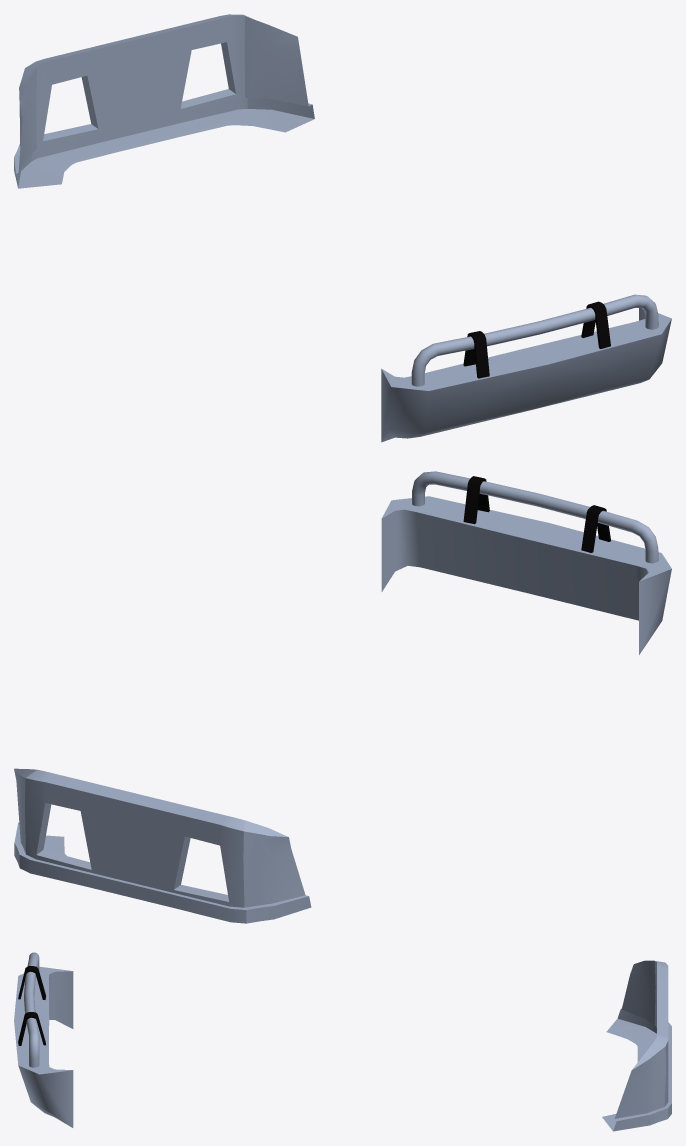
File: bumper.fbx
3 views of the same model, one above another, from view 1: azimuth 30°, elevation 25°; view 2: azimuth 150°, elevation 25°; view 3: azimuth 270°, elevation 25° (orthographic). The views are drawn at different scales.
Parts seen in each view (by area): view 1: Cube.004, Cube; view 2: Cube, Cube.004; view 3: Cube.004, Cube.
Boxes of the visible parts, box(x1,y1,x2,y2) form: Cube.004: box(14, 14, 314, 188); Cube: box(381, 294, 671, 442); Cube: box(381, 471, 671, 654); Cube.004: box(14, 768, 311, 923); Cube.004: box(602, 960, 671, 1131); Cube: box(14, 952, 73, 1127).
Size of the model in its own units: 2.61 by 0.9495 by 6.44.
